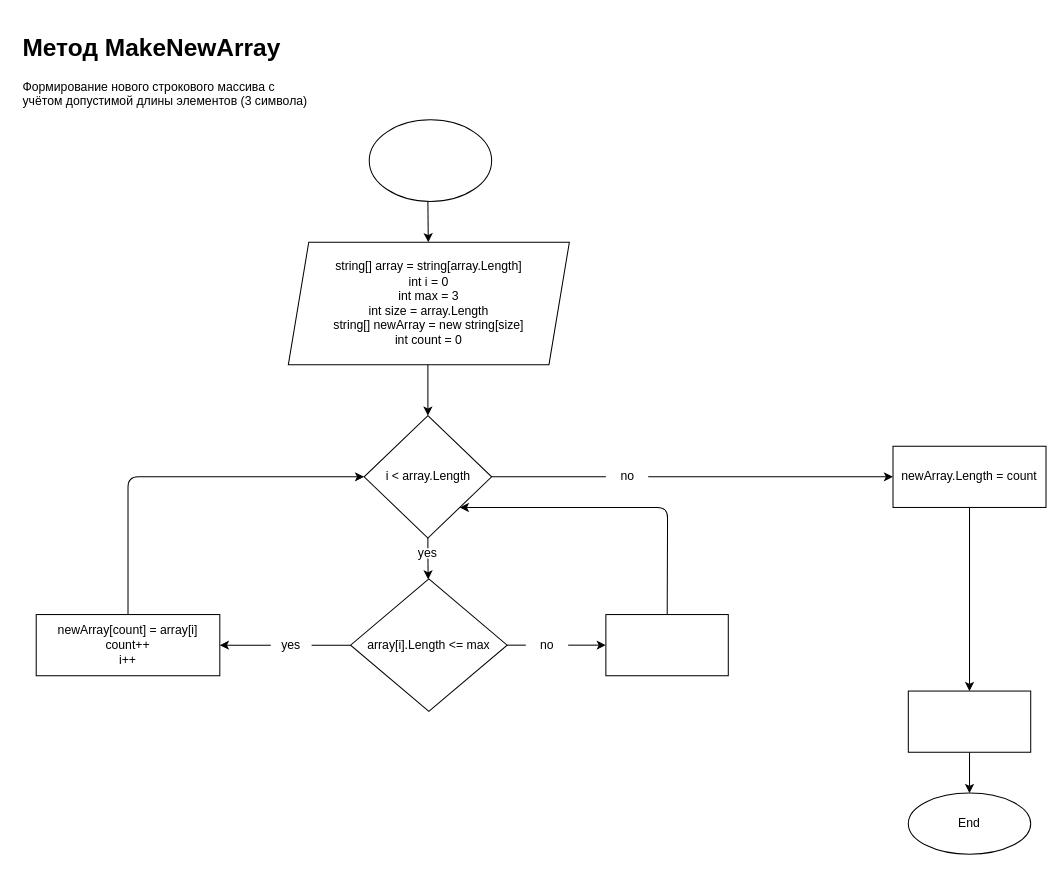
The diagram is 1064 pixels wide and 872 high, and some of its shapes have lost their labels. The centre of each missing label's shape, as x and y in pixels:
"i++" belongs at (x=666, y=645).
"print newArray" belongs at (x=969, y=721).
"Start" belongs at (x=430, y=160).
